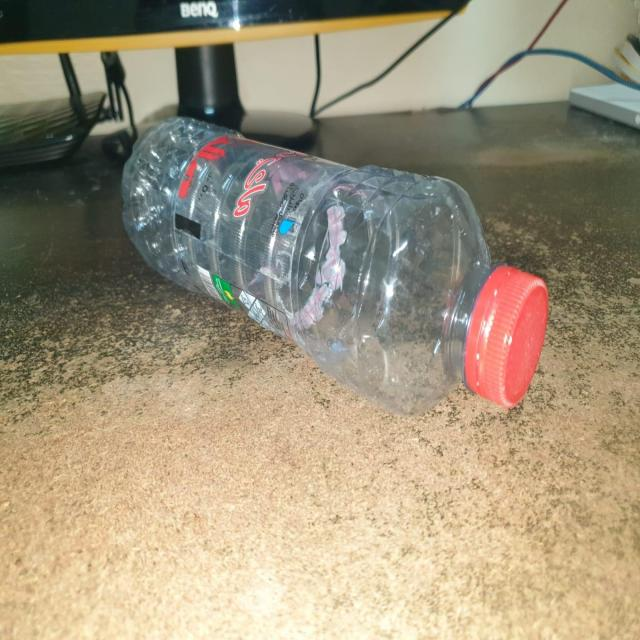bottle: (109, 105, 558, 432)
